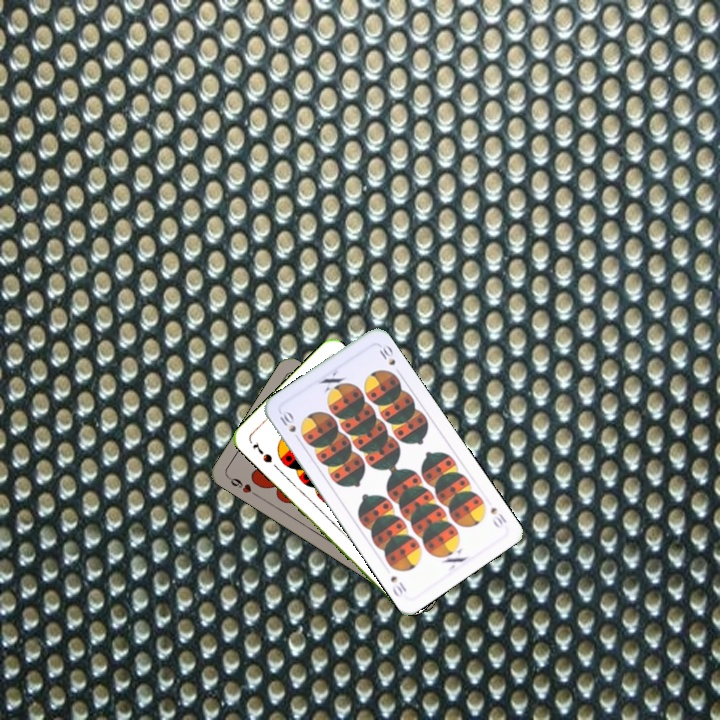H9: (224, 472, 260, 499)
S10: (276, 406, 299, 435), (486, 503, 509, 531)
S7: (249, 438, 275, 465)
